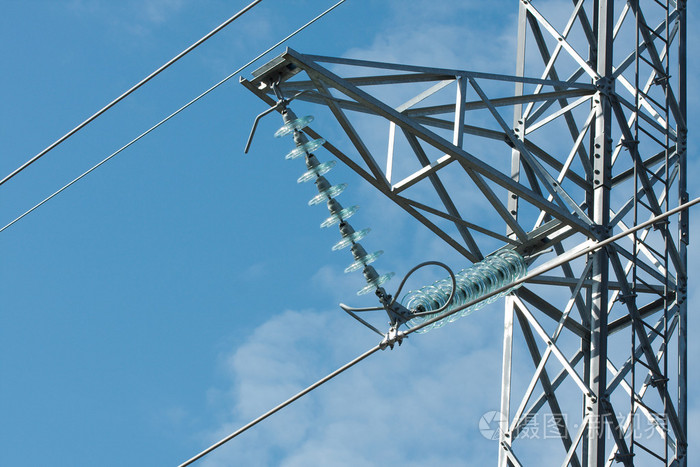insulator: (274, 115, 393, 296), (404, 248, 524, 336)
